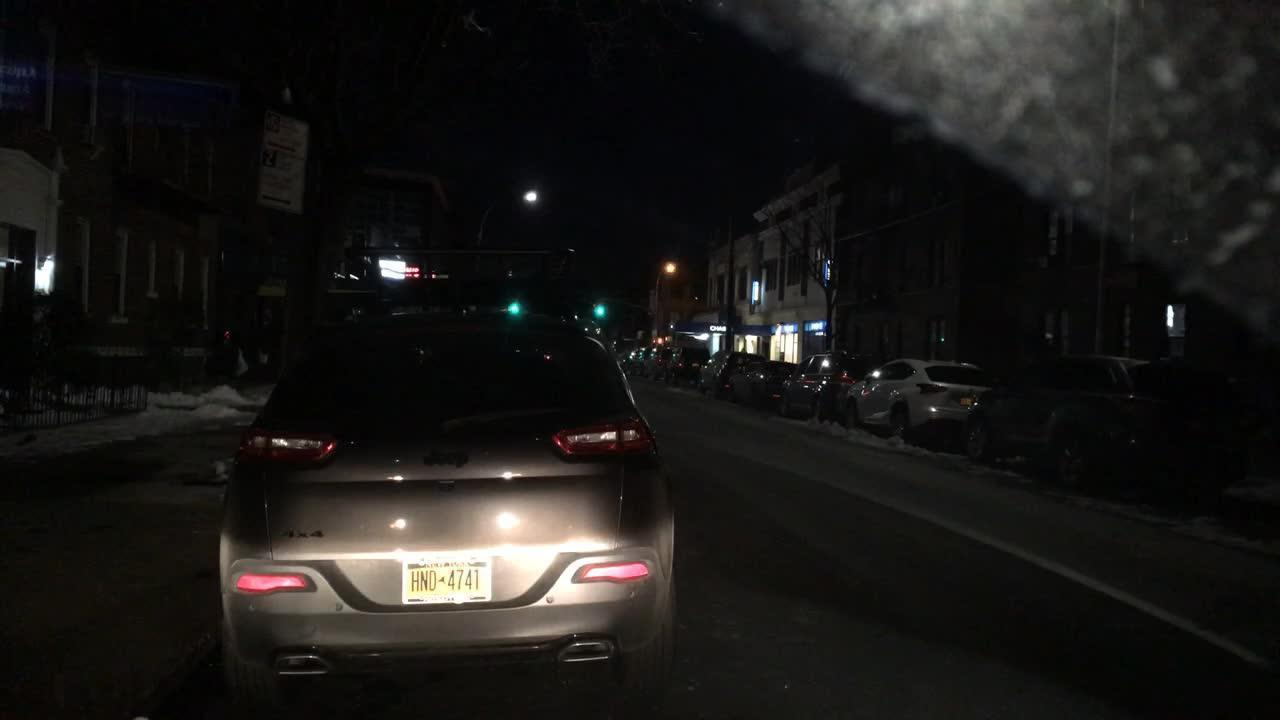jeep: (417, 445, 484, 479)
